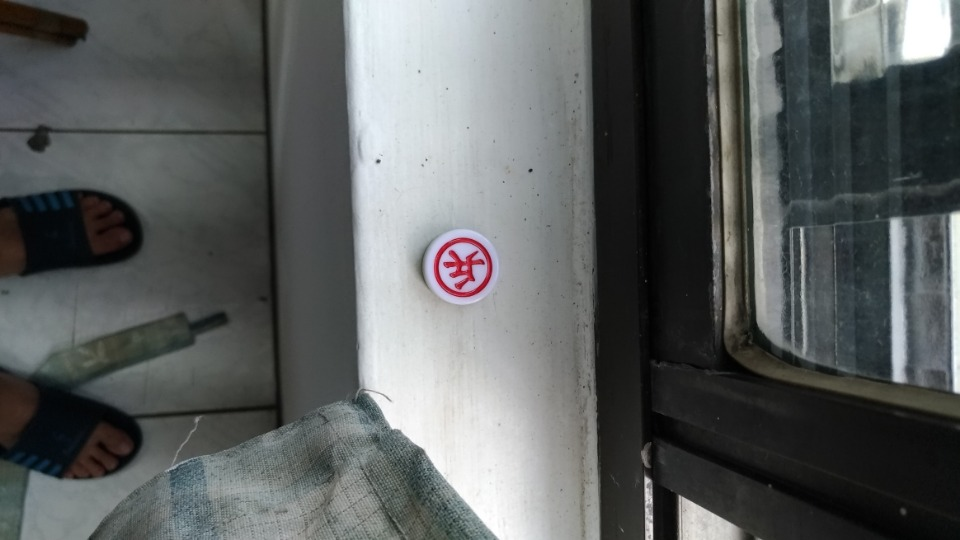r-pawn: (414, 217, 502, 313)
